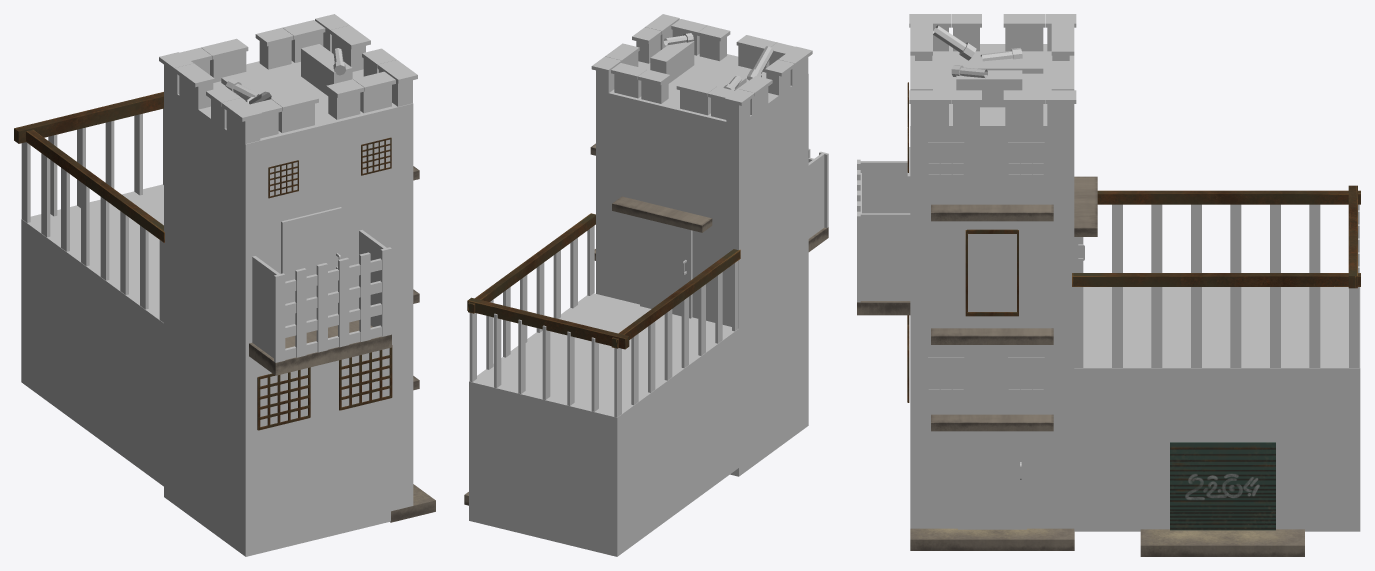
The model's file is Nha 1.2.fbx.
3 views of the same model, side by side, from view 1: azimuth 30°, elevation 25°; view 2: azimuth 150°, elevation 25°; view 3: azimuth 270°, elevation 25° (orthographic). The views are drawn at different scales.
Visible parts, largest first — view 1: Plane.008, Plane.006, Plane.011, Cube.045, Cube.044, thanh sat .001, nen nha.001, cot ngang .004, cua go.003, cot ngang .001, thanh sat .002, thanh cua rir sets .016 (+11 smaller); view 2: Plane.011, Plane.006, Plane.007, nen nha.001, cot ngang .004, Cube.045, Cube.044, cua go.011, thanh cua rir sets .054, cot ngang .005, thanh cua rir sets .055, Plane.009 (+3 smaller); view 3: Plane.005, Plane.011, nen nha.001, cot ngang .004, cua cuon.002, Cube.044, thanh cua rir sets .054, cot ngang .001, cua go.004, thanh cua rir sets .002, Them nha.009, Them nha.004 (+14 smaller).
Boxes of the visible parts, <box> form: Plane.008: <box>245,103,413,556</box>; Plane.006: <box>164,85,245,556</box>; Plane.011: <box>21,219,163,486</box>; Cube.045: <box>179,20,395,138</box>; Cube.044: <box>159,14,417,143</box>; thanh sat .001: <box>274,247,391,362</box>; nen nha.001: <box>21,184,163,322</box>; cot ngang .004: <box>21,142,163,322</box>; cua go.003: <box>281,207,341,326</box>; cot ngang .001: <box>252,230,387,358</box>; thanh sat .002: <box>285,258,381,359</box>; thanh cua rir sets .016: <box>257,367,310,430</box>; Plane.011: <box>469,329,738,556</box>; Plane.006: <box>739,74,808,476</box>; Plane.007: <box>596,90,738,476</box>; nen nha.001: <box>470,293,737,417</box>; cot ngang .004: <box>469,225,738,417</box>; Cube.045: <box>611,19,795,119</box>; Cube.044: <box>591,14,812,124</box>; cua go.011: <box>640,217,692,318</box>; thanh cua rir sets .054: <box>468,213,740,348</box>; cot ngang .005: <box>494,313,598,411</box>; thanh cua rir sets .055: <box>467,297,629,349</box>; Plane.009: <box>609,54,791,121</box>; Plane.005: <box>910,126,1074,528</box>; Plane.011: <box>1074,368,1360,531</box>; nen nha.001: <box>1074,287,1360,368</box>; cot ngang .004: <box>1072,204,1359,367</box>; cua cuon.002: <box>1170,442,1275,530</box>; Cube.044: <box>909,14,1076,125</box>; thanh cua rir sets .054: <box>1072,190,1360,286</box>; cot ngang .001: <box>858,161,910,300</box>; cua go.004: <box>958,431,1026,529</box>; thanh cua rir sets .002: <box>965,229,1018,316</box>; Them nha.009: <box>1140,529,1304,556</box>; Them nha.004: <box>910,528,1074,550</box>.
Size of the model in its own units: 8.55 by 17.13 by 17.32.
